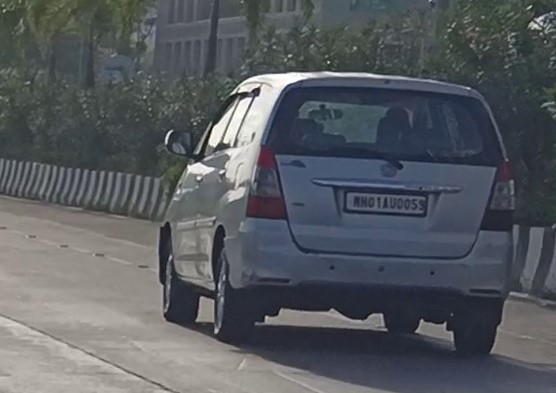MH01AU0059: (345, 192, 426, 216)
